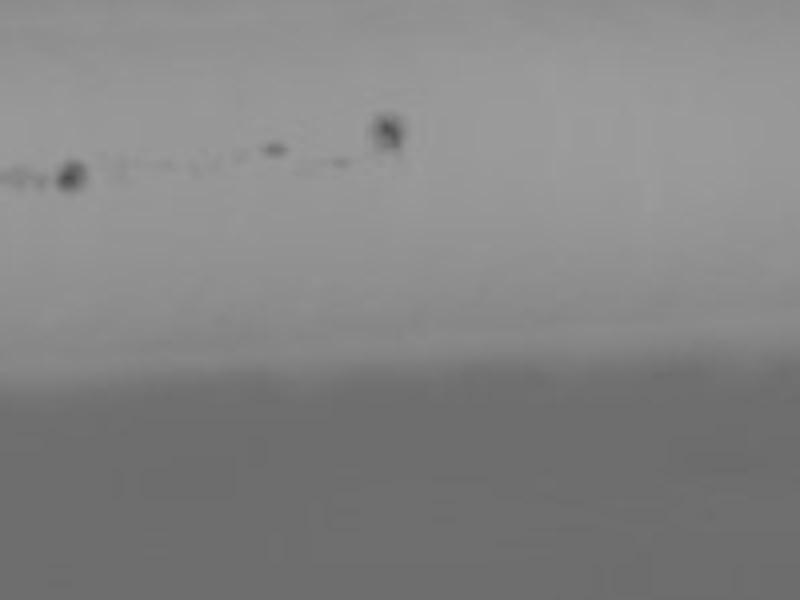defect: (368, 109, 406, 149), (6, 166, 46, 196), (58, 163, 86, 190), (136, 155, 173, 173), (260, 138, 288, 156), (227, 146, 249, 167), (185, 158, 202, 180), (334, 155, 355, 169)
